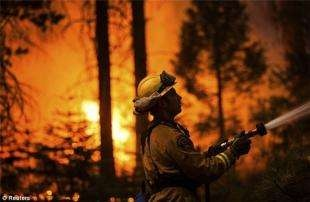fire: (68, 94, 138, 170)
